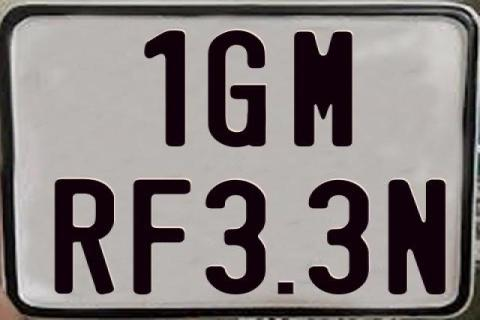0: (305, 178, 370, 294), (203, 178, 265, 294), (142, 28, 184, 146)
F: (130, 179, 190, 296)
G: (205, 31, 263, 150)
M: (292, 29, 353, 149)
N: (385, 178, 443, 296)
R: (54, 179, 115, 295)
